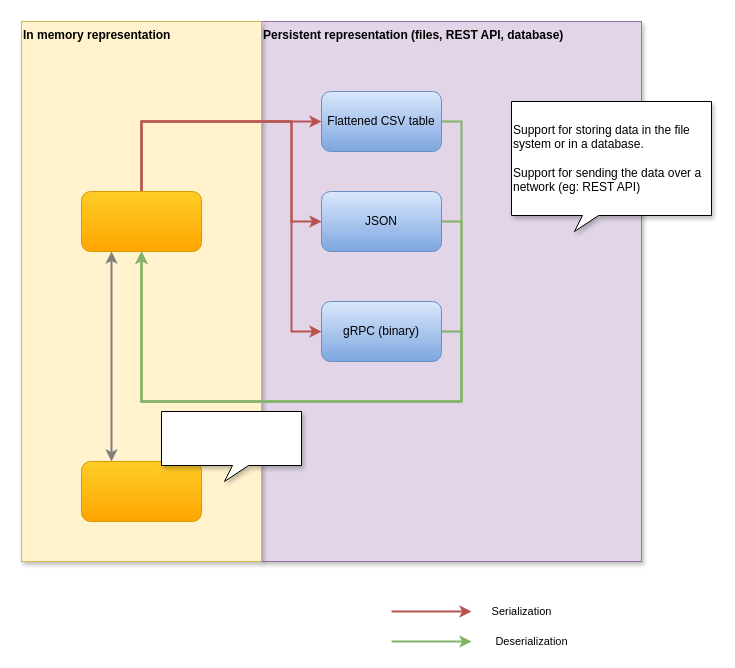
The diagram is 735 pixels wide and 668 high, and some of its shapes have lost their labels. Each missing label, with the centre of its shape:
"Dataframe (pandas)" belongs at point 141,491.
"Model objects" belongs at point 141,221.
"Support data analysis and visualization of cohorts" belongs at point 232,447.
